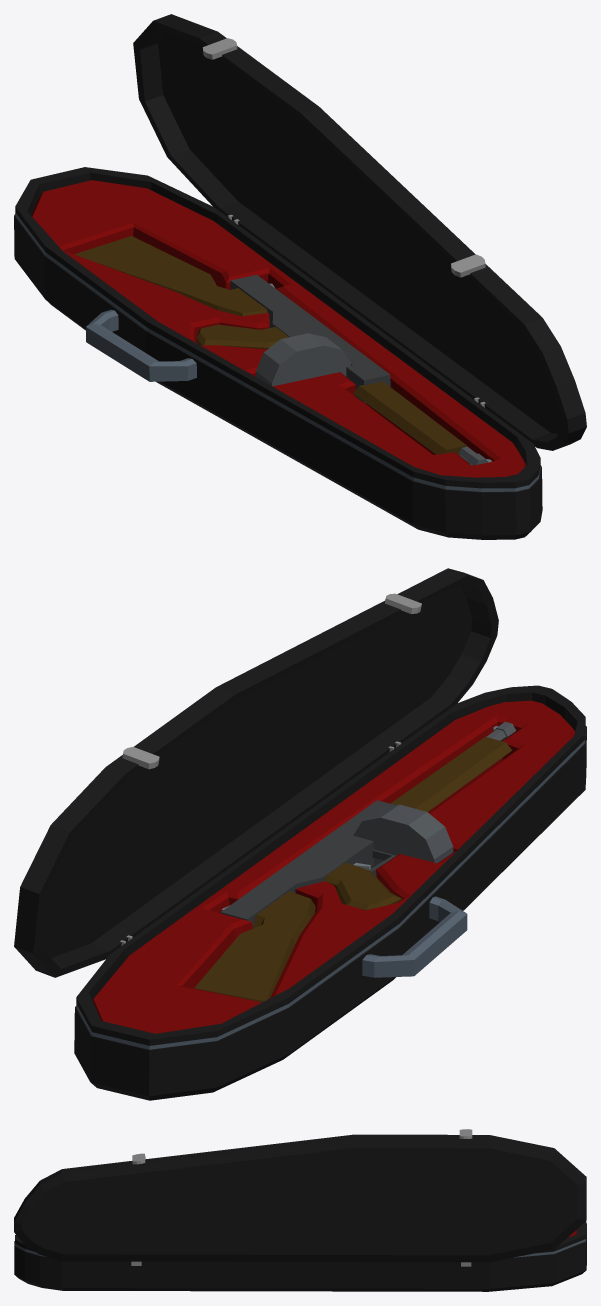
The model's file is violin case.fbx.
3 views of the same model, one above another, from view 1: azimuth 30°, elevation 25°; view 2: azimuth 150°, elevation 25°; view 3: azimuth 270°, elevation 25° (orthographic). The views are drawn at different scales.
Parts seen in each view (by area): view 1: violin case, violin case2, tommy; view 2: violin case, violin case2, tommy; view 3: violin case2, violin case.
Boxes of the visible parts, bbox=[...] form: violin case: bbox=[14, 167, 542, 539]; violin case2: bbox=[133, 14, 586, 450]; tommy: bbox=[74, 236, 492, 465]; violin case: bbox=[74, 685, 586, 1100]; violin case2: bbox=[14, 568, 498, 977]; tommy: bbox=[194, 721, 516, 1002]; violin case2: bbox=[14, 1129, 586, 1262]; violin case: bbox=[14, 1221, 586, 1291].
Size of the model in its own units: 32.42 by 31.97 by 105.
